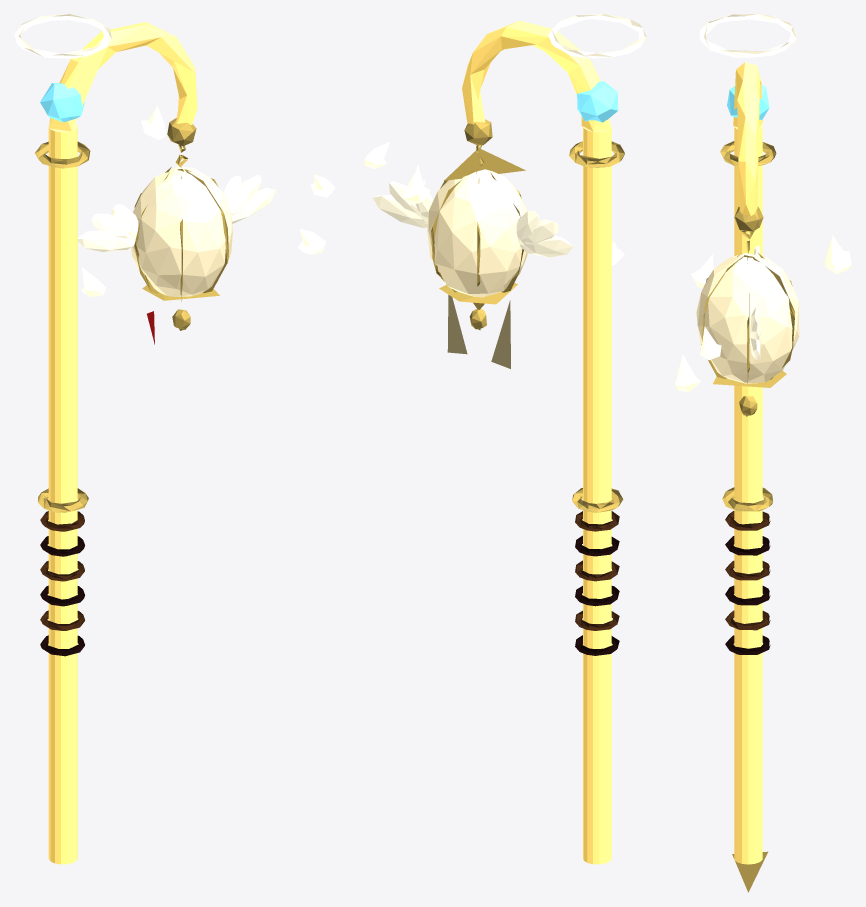
Rendered from lantern_7.glb.
3 renders of one model, left to right at view 1: azimuth 30°, elevation 25°; view 2: azimuth 150°, elevation 25°; view 3: azimuth 270°, elevation 25°, orthographic.
Parts seen in each view (by area): view 1: Staff__001, Lantern__015, Staff__002, Halo__043, Staff__013, Lantern__022, Staff__010, Lantern__025, Staff__011, Lantern__023; view 2: Staff__001, Lantern__015, Staff__002, Halo__043, Staff__013, Lantern__028, Lantern__025, Staff__010, Lantern__022, Tags__033, Tags__035, Staff__011 (+1 smaller); view 3: Staff__001, Lantern__015, Staff__002, Halo__043, Staff__011, Orbit__041, Staff__010, Orbit__042, Staff__003, Staff__012, Staff__013, Staff__006 (+8 smaller).
Boxes of the visible parts, x1,y1,x2,y2 form: Staff__001: (48,123,77,864); Lantern__015: (131,166,232,296); Staff__002: (49,22,197,131); Halo__043: (14,14,111,58); Staff__013: (40,83,84,122); Lantern__022: (77,230,134,252); Staff__010: (34,141,90,168); Lantern__025: (232,187,276,223); Staff__011: (38,488,88,512); Lantern__023: (91,213,132,239); Staff__001: (583,123,611,864); Lantern__015: (427,169,527,297); Staff__002: (462,20,609,131); Halo__043: (548,14,646,58); Staff__013: (577,81,618,122); Lantern__028: (444,148,525,180); Lantern__025: (373,195,427,227); Staff__010: (569,141,624,167); Lantern__022: (520,235,573,257); Tags__033: (491,300,510,368); Tags__035: (447,295,467,354); Staff__011: (572,488,623,512); Staff__001: (734,124,762,864); Lantern__015: (696,253,799,383); Staff__002: (733,62,762,215); Halo__043: (699,14,796,57); Staff__011: (722,487,772,511); Orbit__041: (824,235,851,274); Staff__010: (720,141,776,166); Orbit__042: (675,354,700,391); Staff__003: (734,207,763,231); Staff__012: (732,851,767,892); Staff__013: (727,85,769,119); Staff__006: (725,585,770,605).
Bounding box in the file's own units: 0.4456 × 1.24 × 0.232.
